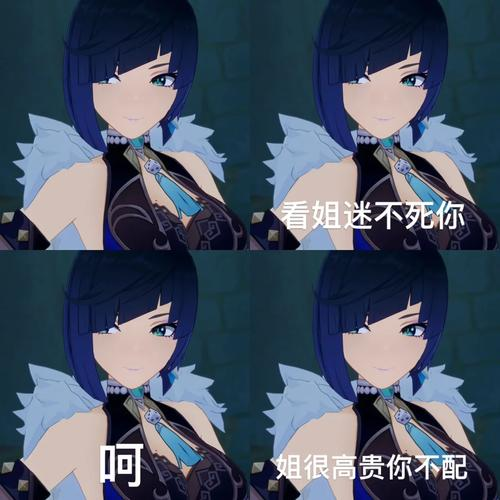夜兰: (1, 1, 247, 252), (254, 2, 496, 248), (254, 254, 495, 499), (3, 262, 250, 497)
